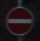No entry: (6, 5, 35, 36)
